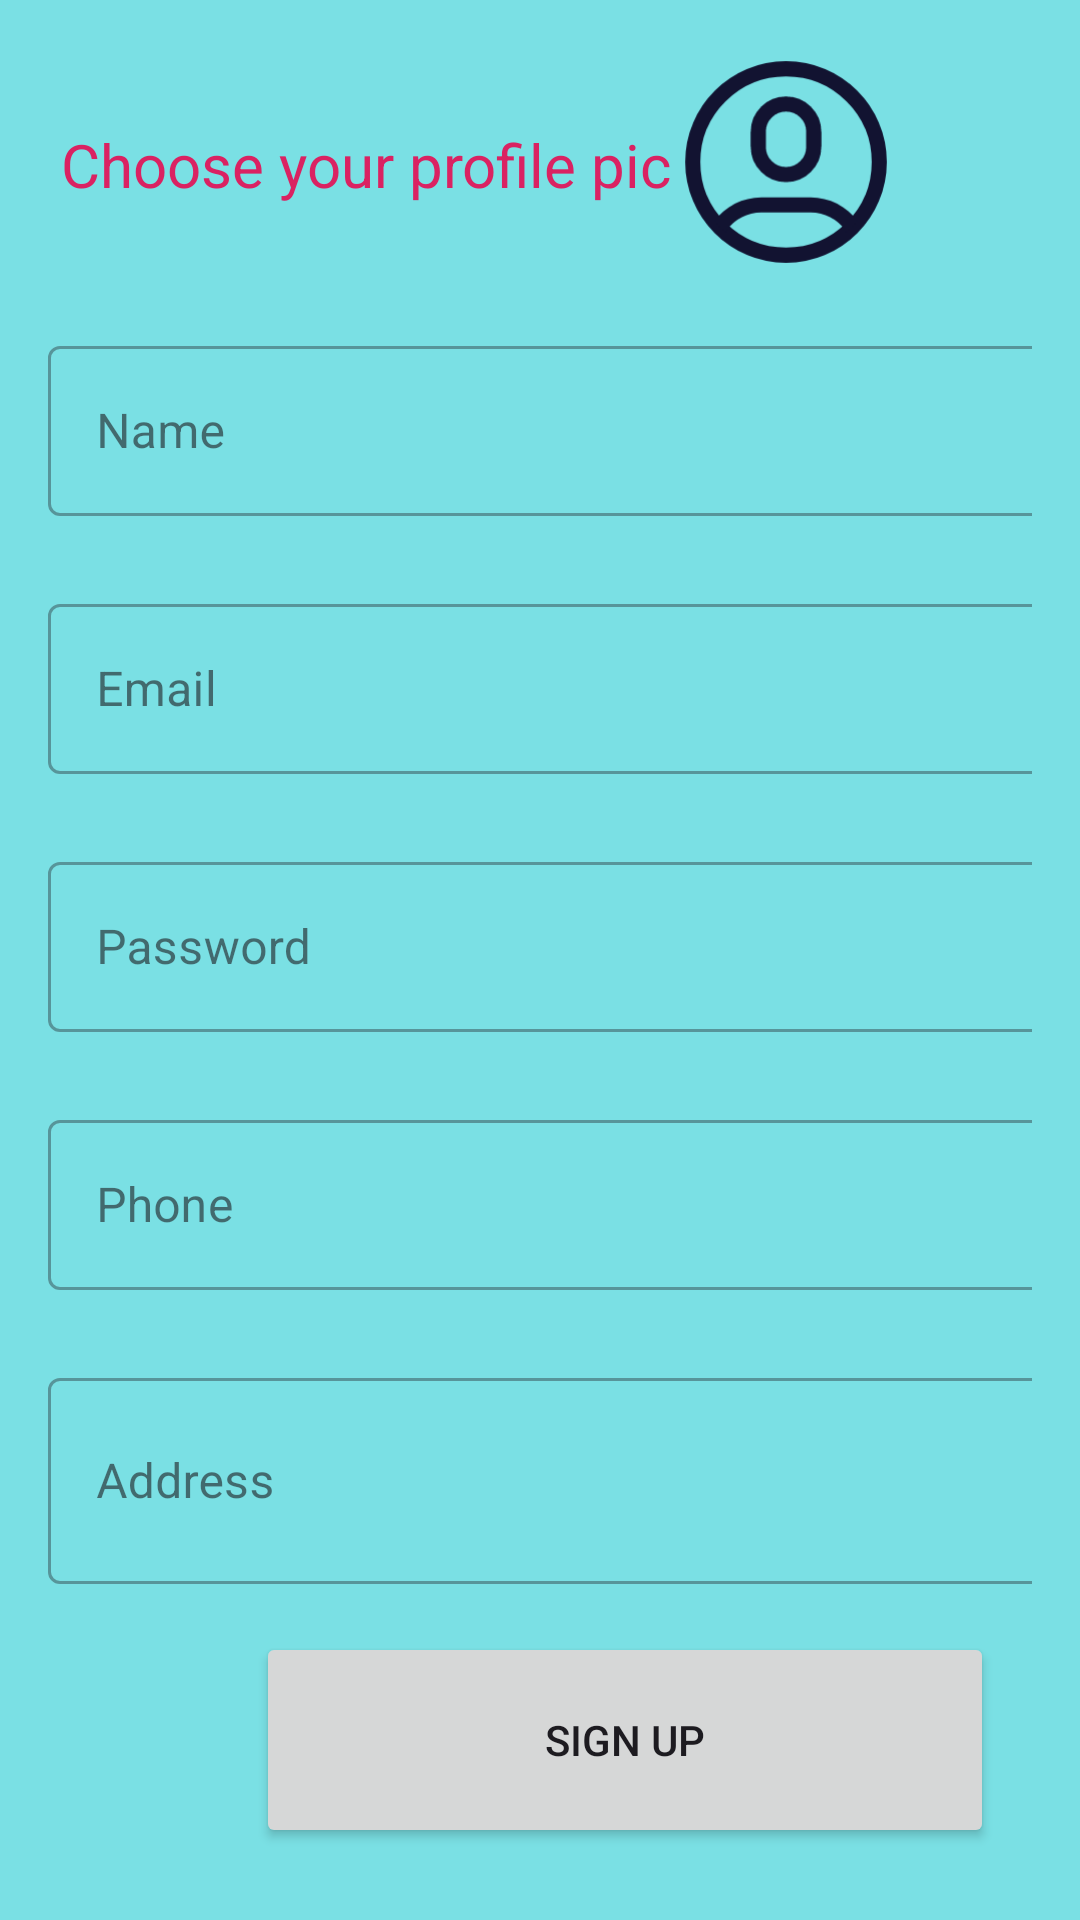

Locate icon controls on the screen. Image size 1080*1920, boxes as (x1, y1, x2, y2).
acc: (685, 61, 887, 263)
